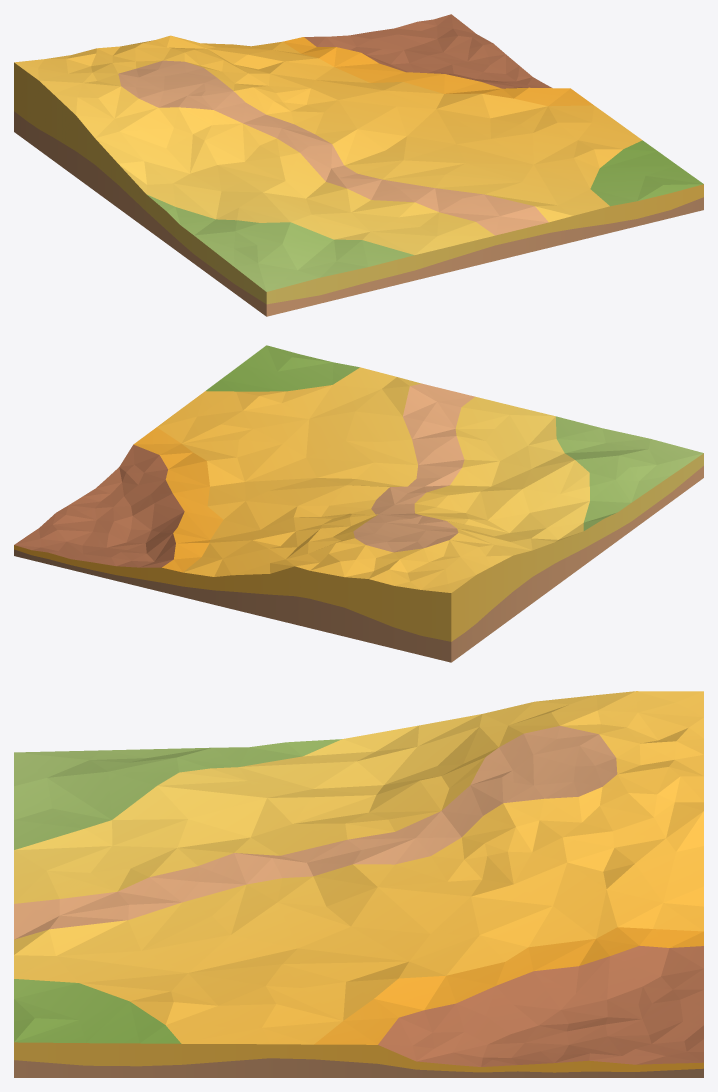
Rendered from land tea house autumn forest.fbx.
3 renders of one model, top to bottom at view 1: azimuth 30°, elevation 25°; view 2: azimuth 150°, elevation 25°; view 3: azimuth 270°, elevation 25°, orthographic. The views are drawn at different scales.
Visible parts, largest first — view 1: land tea house autumn forest; view 2: land tea house autumn forest; view 3: land tea house autumn forest.
Boxes of the visible parts, box(x1,y1,x2,y2) form: land tea house autumn forest: box(14, 14, 703, 316); land tea house autumn forest: box(14, 345, 703, 662); land tea house autumn forest: box(14, 691, 703, 1077).
Bounding box in the file's own units: 4500 × 696 × 4500.
